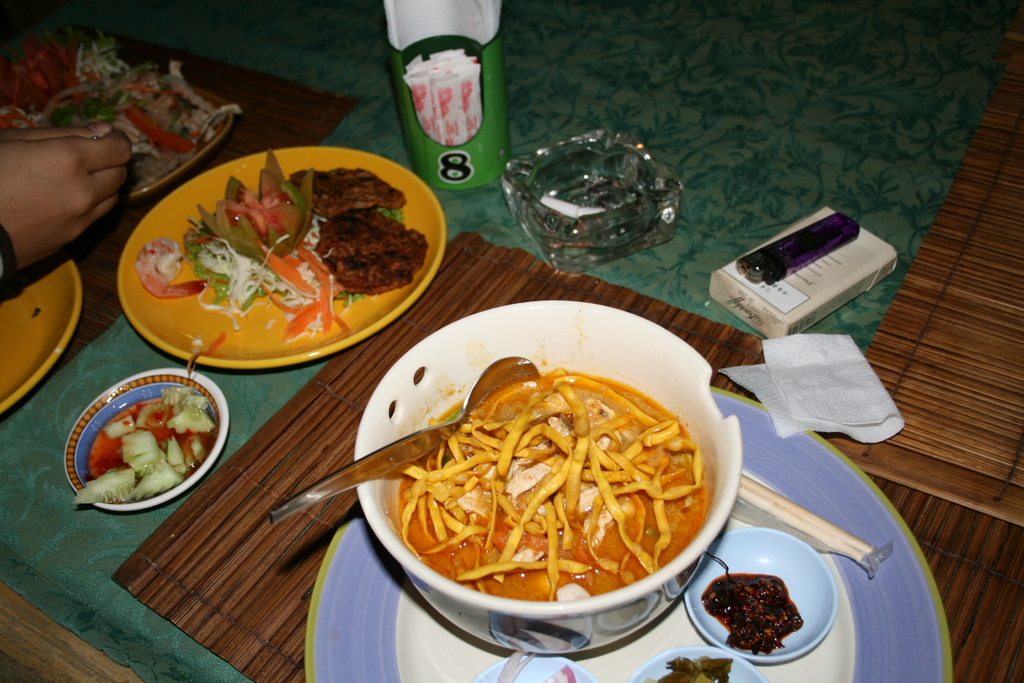pasta: (391, 365, 724, 613)
